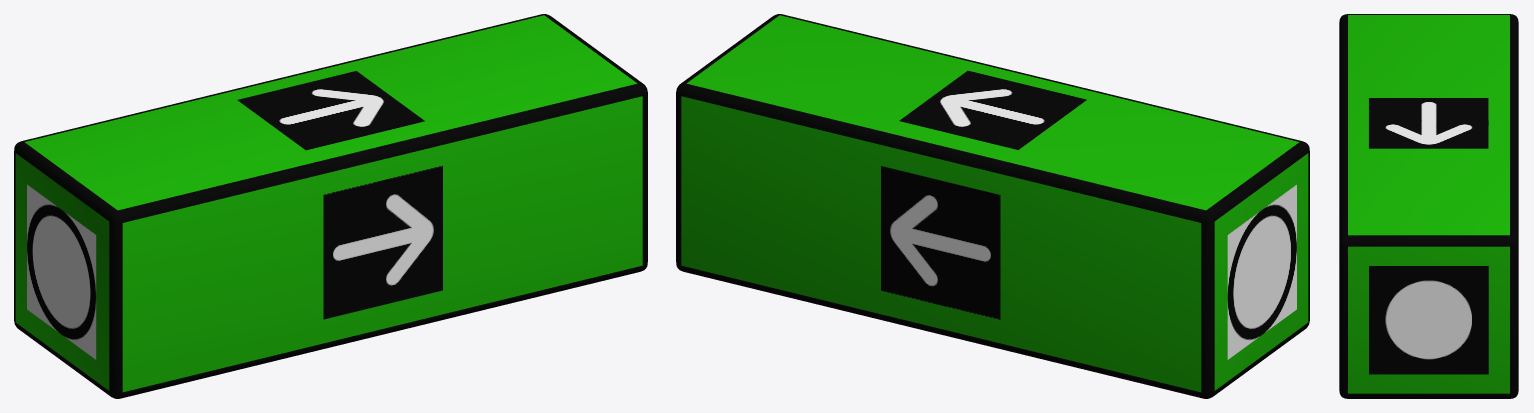
The model's file is BigBoxTapFlowBox_1_1_3_Line.fbx.
3 views of the same model, side by side, from view 1: azimuth 30°, elevation 25°; view 2: azimuth 150°, elevation 25°; view 3: azimuth 270°, elevation 25° (orthographic). The views are drawn at different scales.
Visible parts, largest first — view 1: BigBoxTapFlowBox_1_1_3_Line_test; view 2: BigBoxTapFlowBox_1_1_3_Line_test; view 3: BigBoxTapFlowBox_1_1_3_Line_test.
Boxes of the visible parts, box(x1,y1,x2,y2) form: BigBoxTapFlowBox_1_1_3_Line_test: box(14, 14, 647, 398); BigBoxTapFlowBox_1_1_3_Line_test: box(676, 14, 1309, 398); BigBoxTapFlowBox_1_1_3_Line_test: box(1339, 14, 1518, 398).
Size of the model in its own units: 3.15 by 1.07 by 1.06.
Materials: 1 (1 with a texture image).
